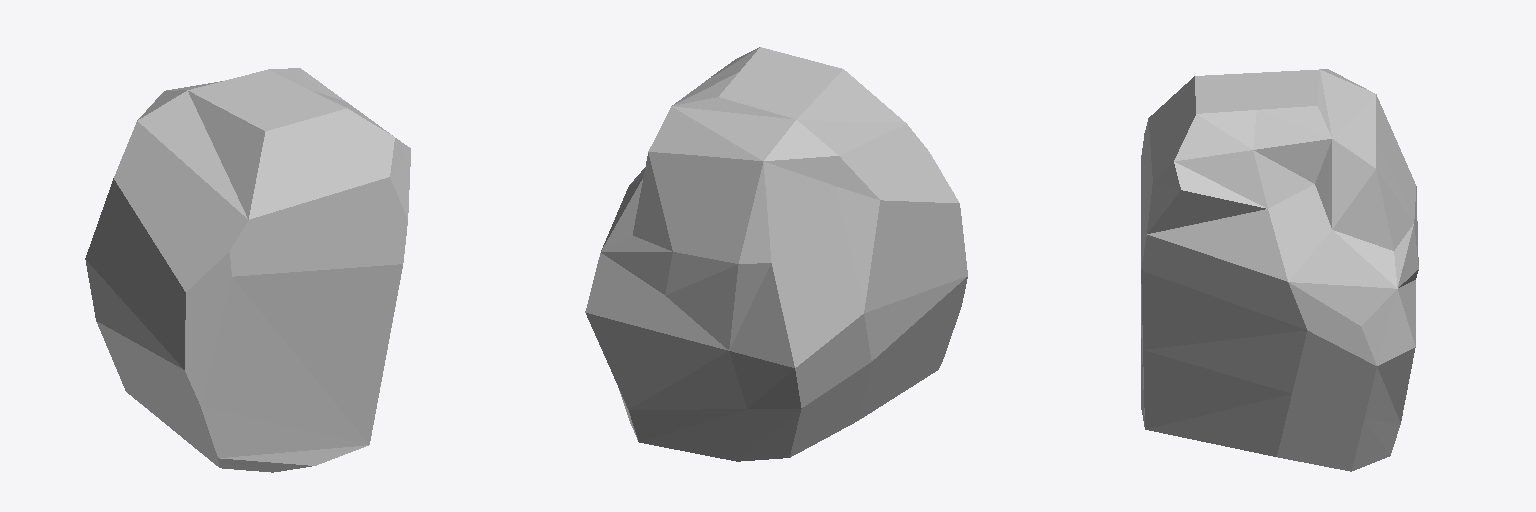
The model's file is Rock.02.obj.
3 renders of one model, left to right at view 1: azimuth 30°, elevation 25°; view 2: azimuth 150°, elevation 25°; view 3: azimuth 270°, elevation 25°, orthographic.
Visible parts, largest first — view 1: Cube.001_low; view 2: Cube.001_low; view 3: Cube.001_low.
Boxes of the visible parts, box(x1,y1,x2,y2) form: Cube.001_low: box(85, 68, 410, 472); Cube.001_low: box(585, 47, 967, 461); Cube.001_low: box(1141, 69, 1418, 471).
Size of the model in its own units: 3.98 by 4.66 by 3.53.